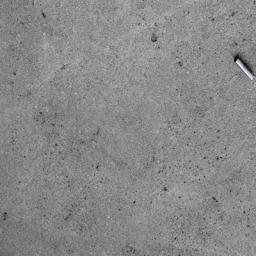FOD: (231, 53, 256, 86)
